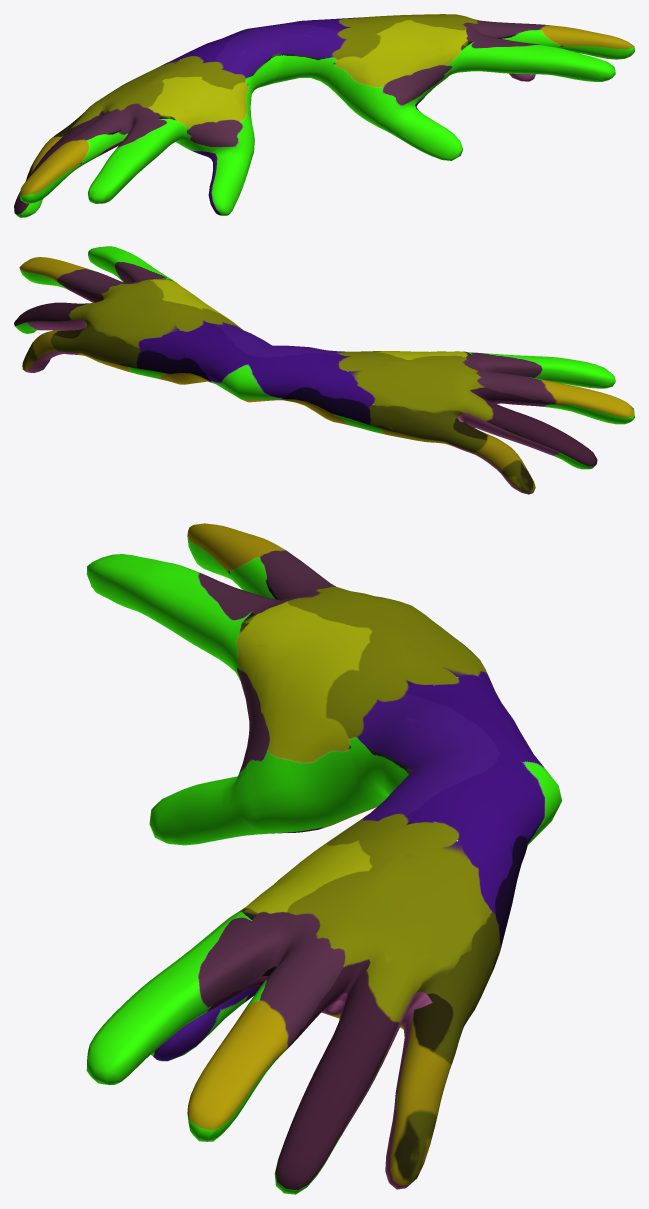
Rendered from mirrorHand_old01.DAE.
3 renders of one model, top to bottom at view 1: azimuth 30°, elevation 25°; view 2: azimuth 150°, elevation 25°; view 3: azimuth 270°, elevation 25°, orthographic. The views are drawn at different scales.
Parts seen in each view (by area): view 1: Animation_Guy; view 2: Animation_Guy; view 3: Animation_Guy.
Boxes of the visible parts, x1,y1,x2,y2 form: Animation_Guy: (14,14,634,217); Animation_Guy: (14,246,634,494); Animation_Guy: (86,523,561,1194).
Size of the model in its own units: 206 by 69.31 by 32.49.
1 material, 1 textured.
